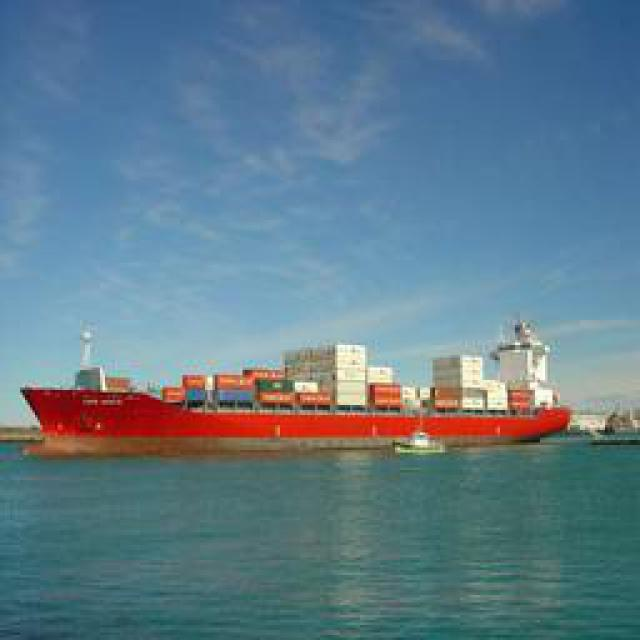Ship: (27, 320, 570, 450)
